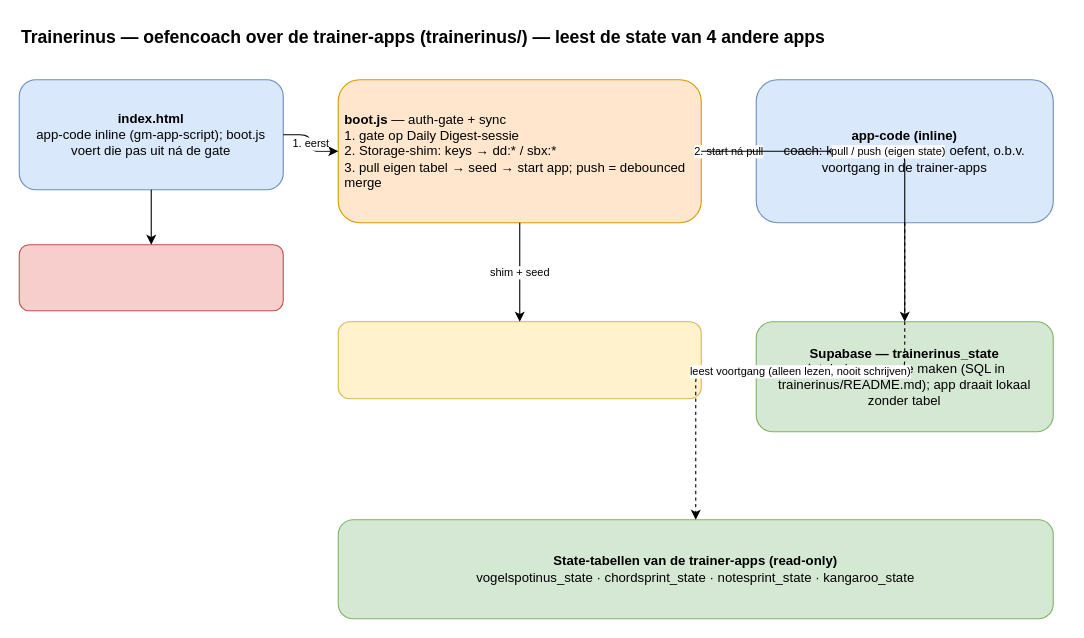
Image size: 1084x638. Some labels were removed from this diagram. The centre of each missing label's shape, as x and y in pixels:
localStorage fysieke keys dd:* / sbx:*: (x=519, y=360)
supabase-js v2 (CDN, extern): (x=150, y=277)
